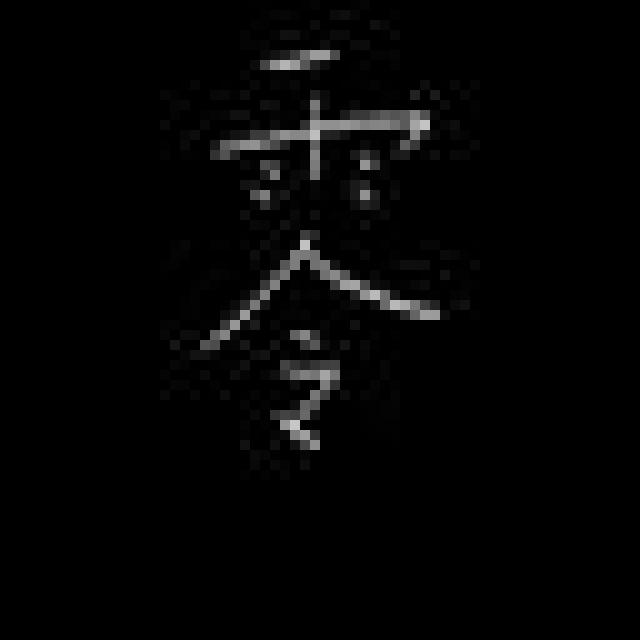0 -zero-: (188, 41, 456, 461)
